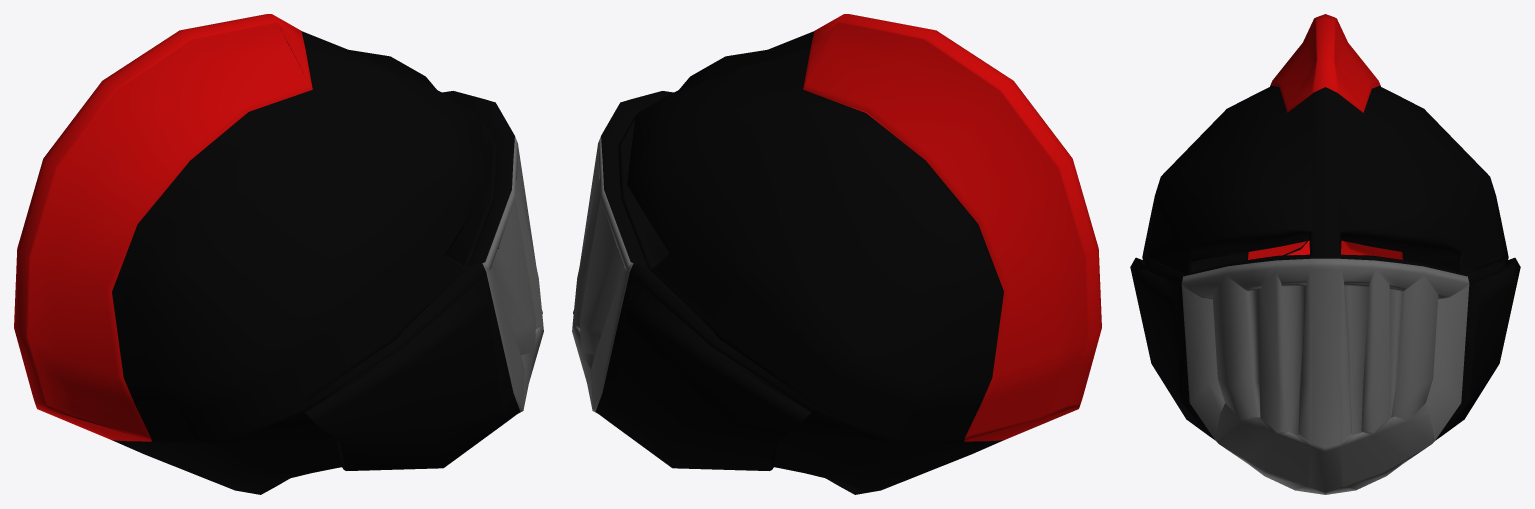
File: Knight.glb
3 views of the same model, side by side, from view 1: azimuth 30°, elevation 25°; view 2: azimuth 150°, elevation 25°; view 3: azimuth 270°, elevation 25° (orthographic). The views are drawn at different scales.
Parts seen in each view (by area): view 1: Helmet; view 2: Helmet; view 3: Helmet.
Part boxes in pixels (x1,y1,x2,y2): Helmet: [14, 14, 543, 494]; Helmet: [572, 14, 1101, 494]; Helmet: [1130, 14, 1520, 494].
Bounding box in the file's own units: 1.66 × 1.38 × 1.34.
